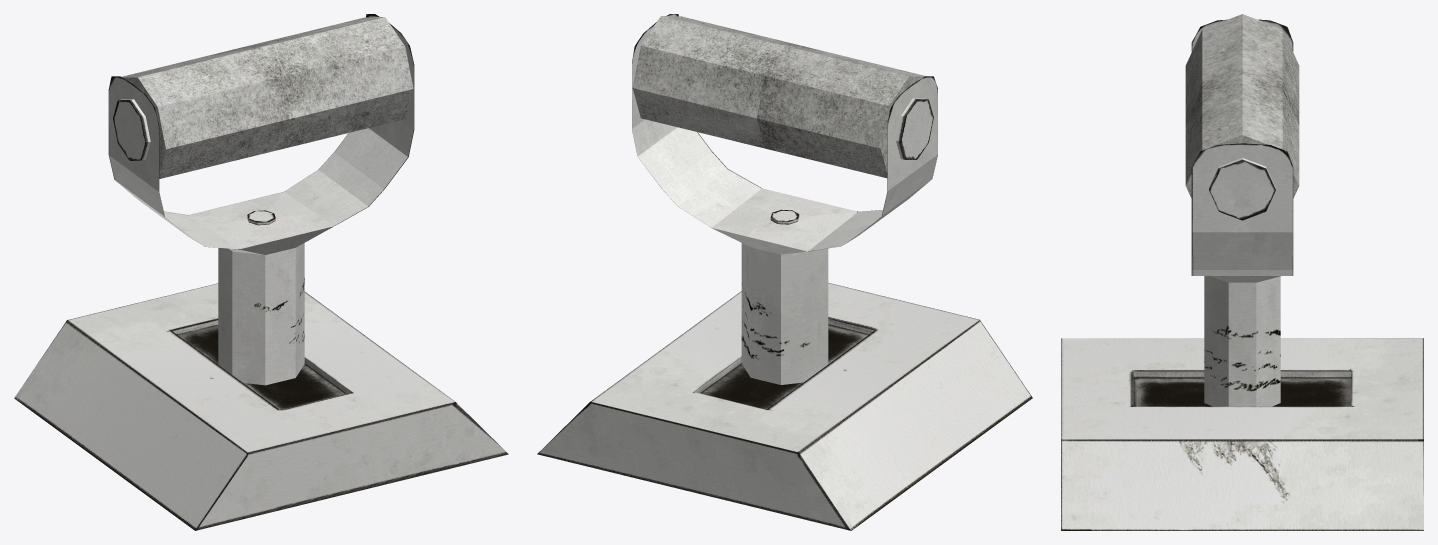
The model's file is LightSwitch.fbx.
3 renders of one model, left to right at view 1: azimuth 30°, elevation 25°; view 2: azimuth 150°, elevation 25°; view 3: azimuth 270°, elevation 25°, orthographic.
Parts seen in each view (by area): view 1: Cube.002, Cube.003; view 2: Cube.002, Cube.003; view 3: Cube.002, Cube.003.
Boxes of the visible parts, x1,y1,x2,y2 form: Cube.002: (14, 283, 508, 530); Cube.003: (108, 14, 414, 385); Cube.002: (537, 283, 1032, 530); Cube.003: (632, 14, 937, 384); Cube.002: (1061, 338, 1423, 530); Cube.003: (1185, 14, 1299, 406).
Bounding box in the file's own units: 241 × 278 × 241.
